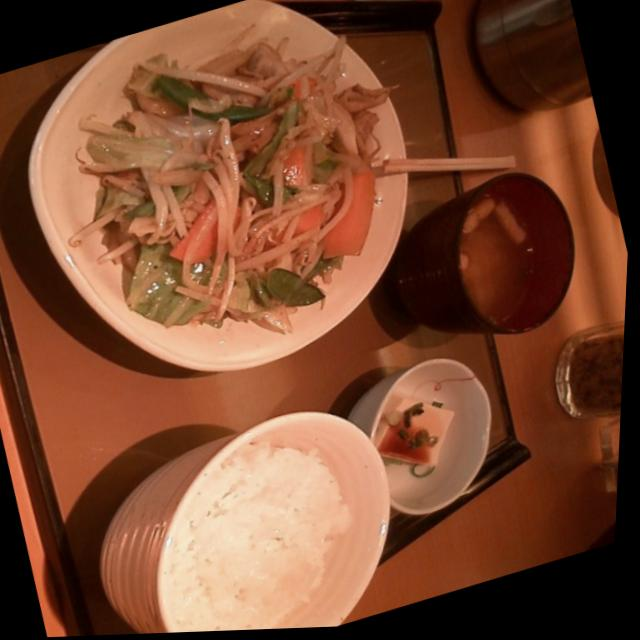米饭主食: (71, 386, 431, 637)
